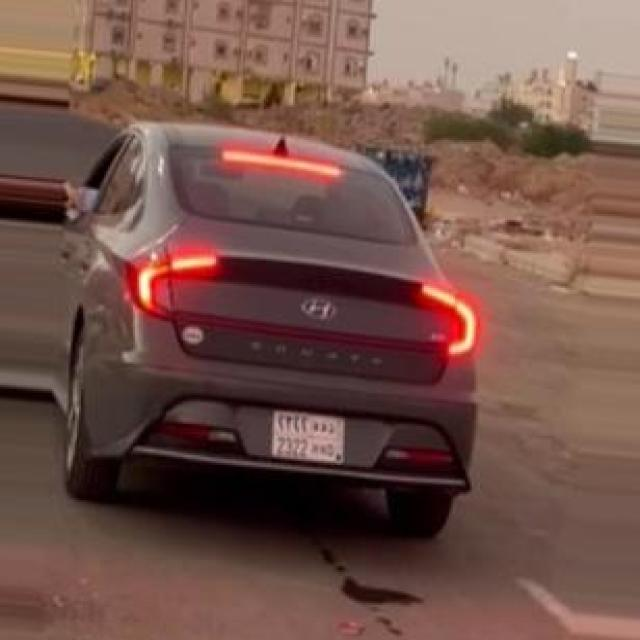Car-plate: (261, 392, 358, 474)
